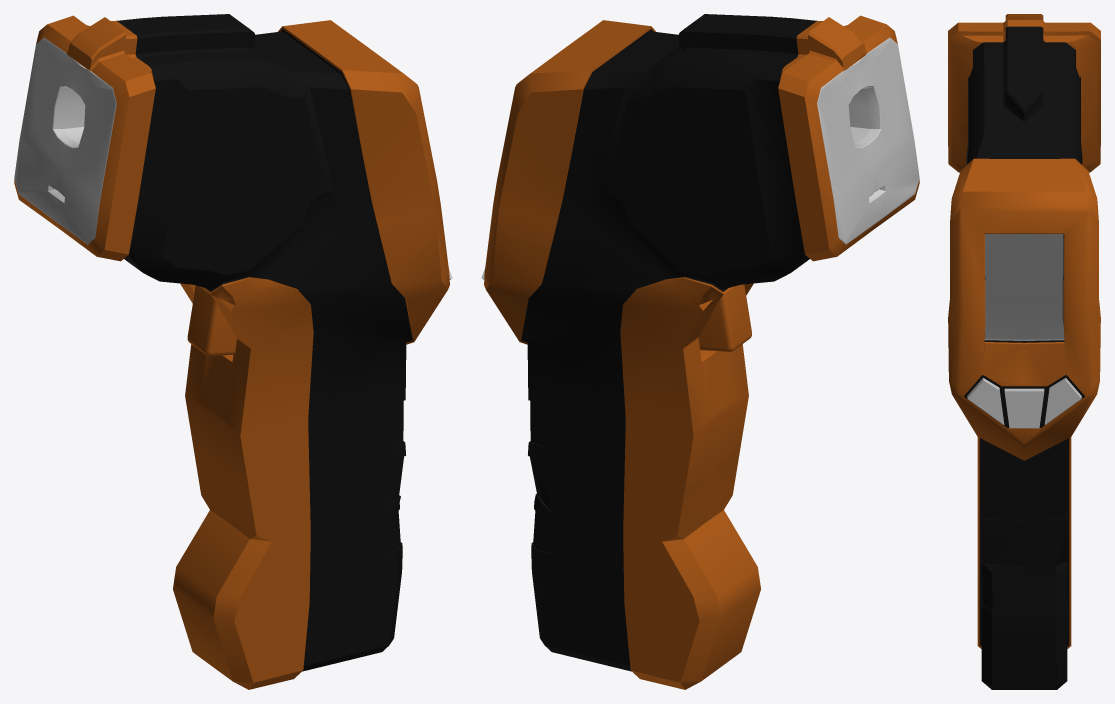
The model's file is Infrared_Thermometer.FBX.
3 views of the same model, side by side, from view 1: azimuth 30°, elevation 25°; view 2: azimuth 150°, elevation 25°; view 3: azimuth 270°, elevation 25° (orthographic). The views are drawn at different scales.
Parts seen in each view (by area): view 1: Infrared Thermometer; view 2: Infrared Thermometer; view 3: Infrared Thermometer.
Boxes of the visible parts, left/top/right/bottom form: Infrared Thermometer: left=14, top=14, right=452, bottom=689; Infrared Thermometer: left=481, top=14, right=919, bottom=689; Infrared Thermometer: left=948, top=14, right=1100, bottom=689.
Size of the model in its own units: 34.79 by 61.63 by 14.85.
